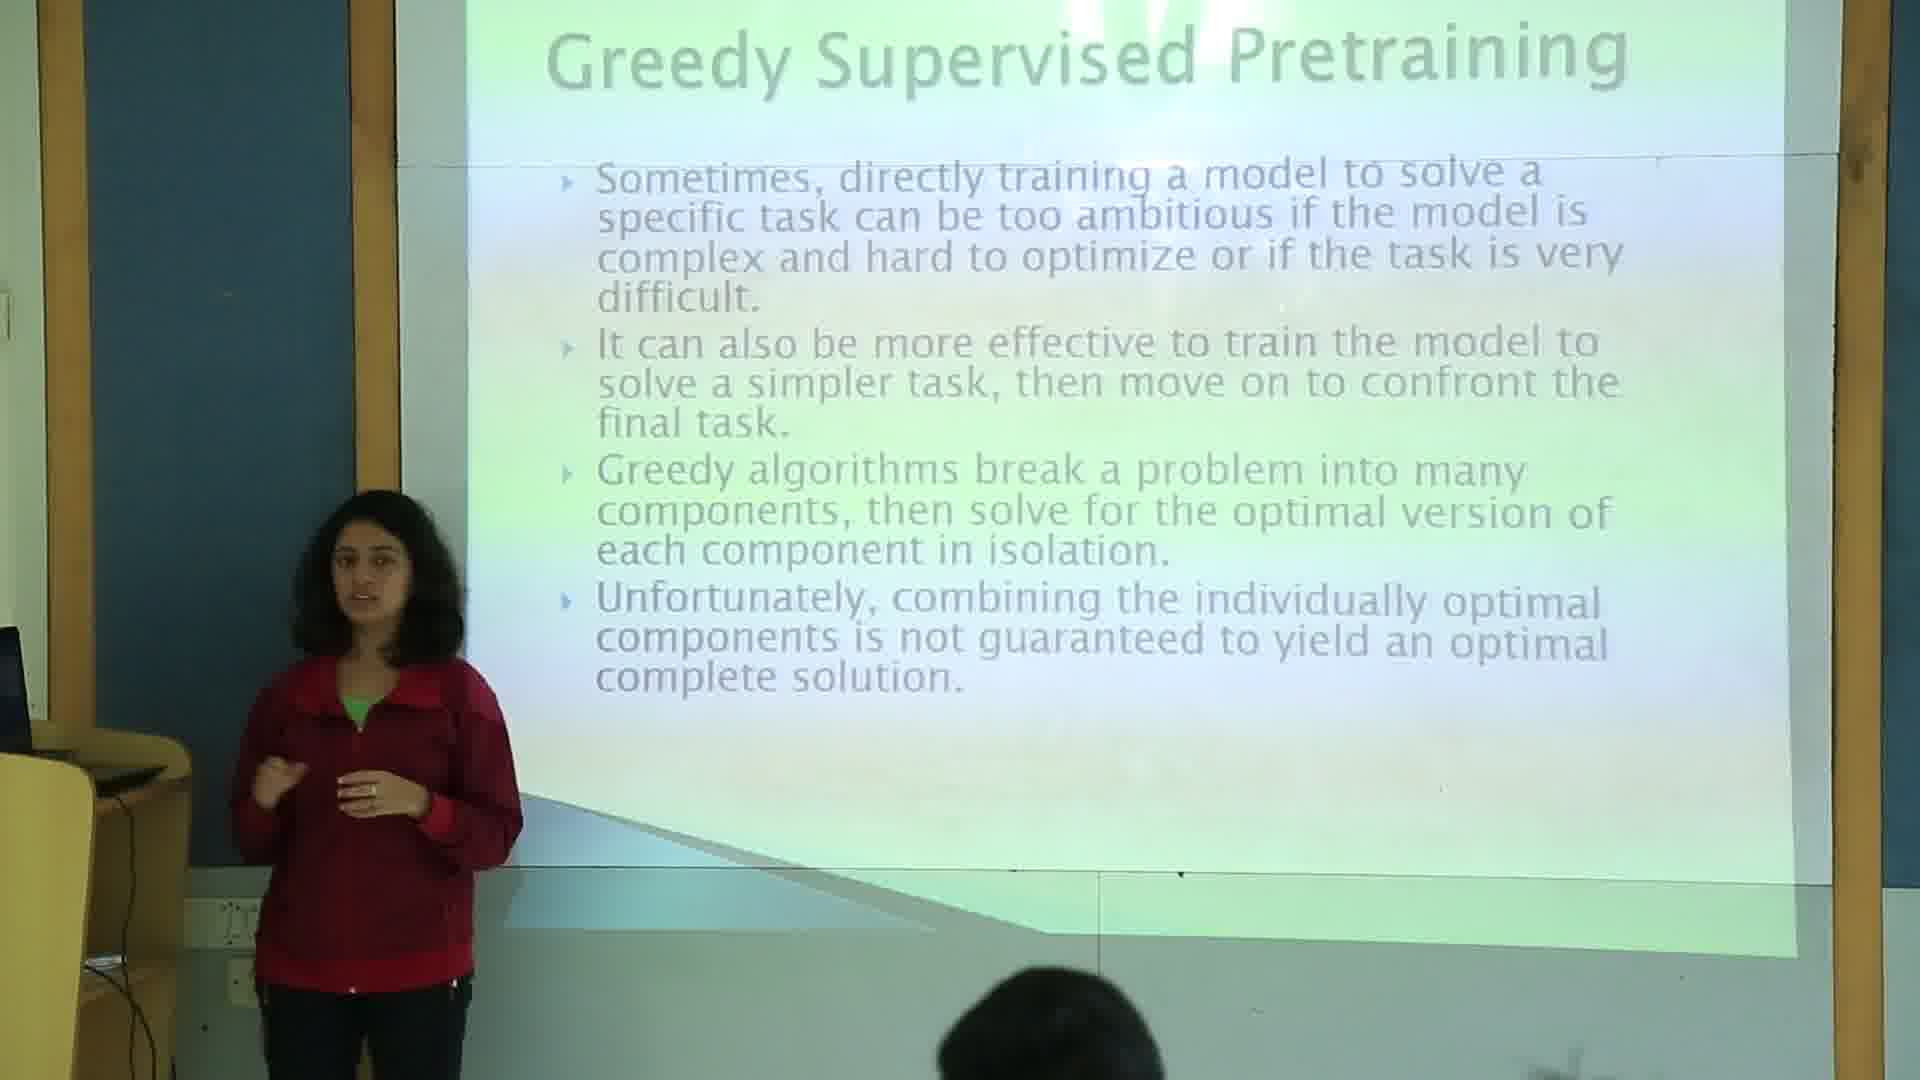slide: (464, 3, 1796, 947)
